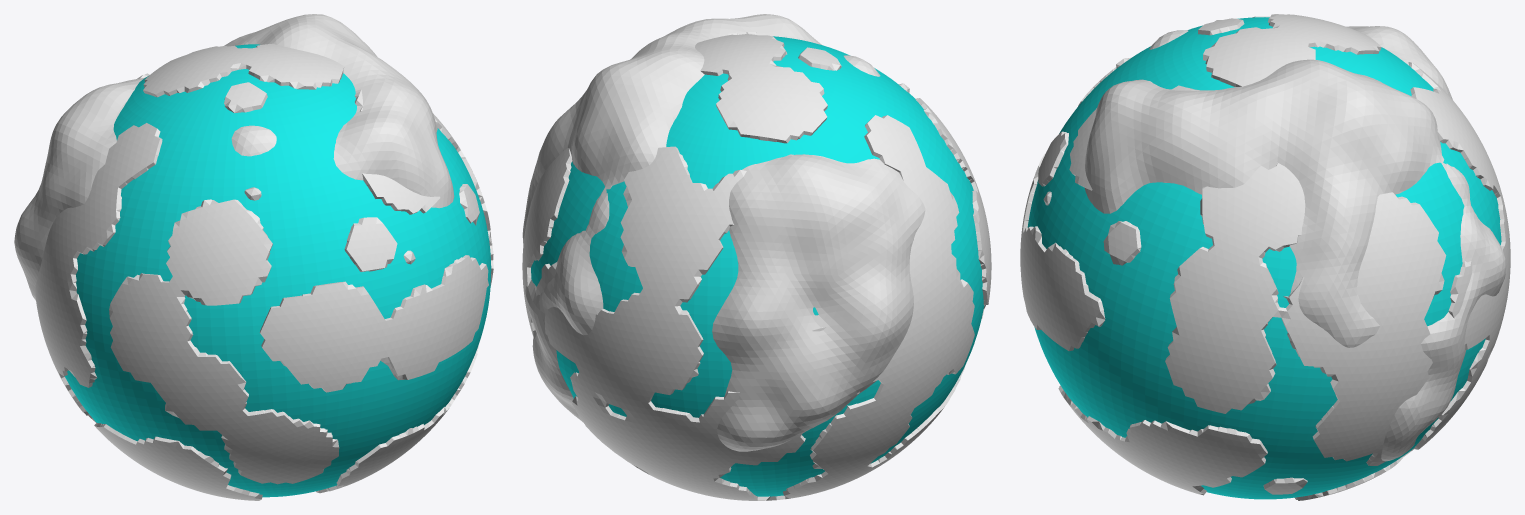
File: planet test2.fbx
3 renders of one model, left to right at view 1: azimuth 30°, elevation 25°; view 2: azimuth 150°, elevation 25°; view 3: azimuth 270°, elevation 25°, orthographic. The views are drawn at different scales.
Visible parts, largest first — view 1: Cube; view 2: Cube; view 3: Cube.
Part boxes in pixels (box(x1,y1,x2,y2)): Cube: box(14, 14, 493, 500); Cube: box(522, 14, 991, 500); Cube: box(1020, 14, 1510, 500).
Bounding box in the file's own units: 205 × 206 × 205.
